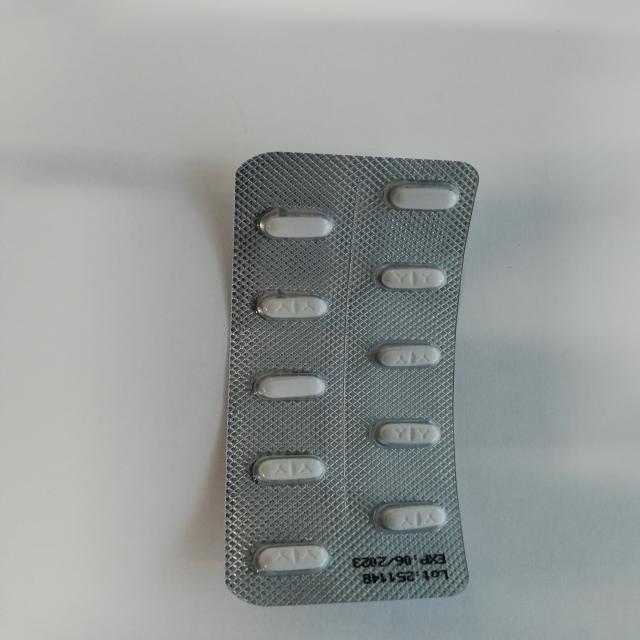Pill: (357, 411, 452, 461), (384, 171, 471, 222), (242, 286, 340, 329), (244, 540, 337, 582), (240, 368, 340, 407), (367, 497, 457, 539), (245, 447, 332, 488), (371, 331, 446, 376), (254, 210, 342, 248), (368, 260, 454, 298)
